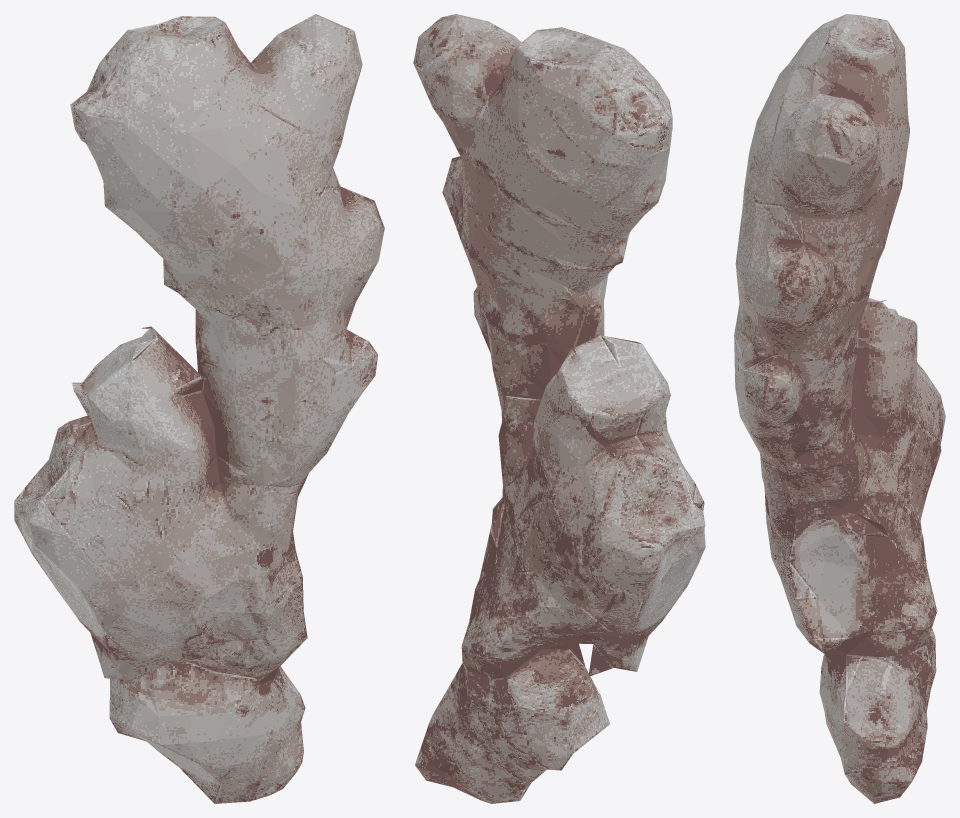
Rendered from ginger.glb.
The picture shows the model from 3 angles, left to right: view 1: azimuth 30°, elevation 25°; view 2: azimuth 150°, elevation 25°; view 3: azimuth 270°, elevation 25°; orthographic projection. The views are drawn at different scales.
Visible parts, largest first — view 1: model_m; view 2: model_m; view 3: model_m.
Boxes of the visible parts, x1,y1,x2,y2 form: model_m: (14,14,384,803); model_m: (413,14,705,803); model_m: (734,14,945,803).
Bounding box in the file's own units: 33.49 × 82.16 × 21.62.
1 material, 1 textured.
